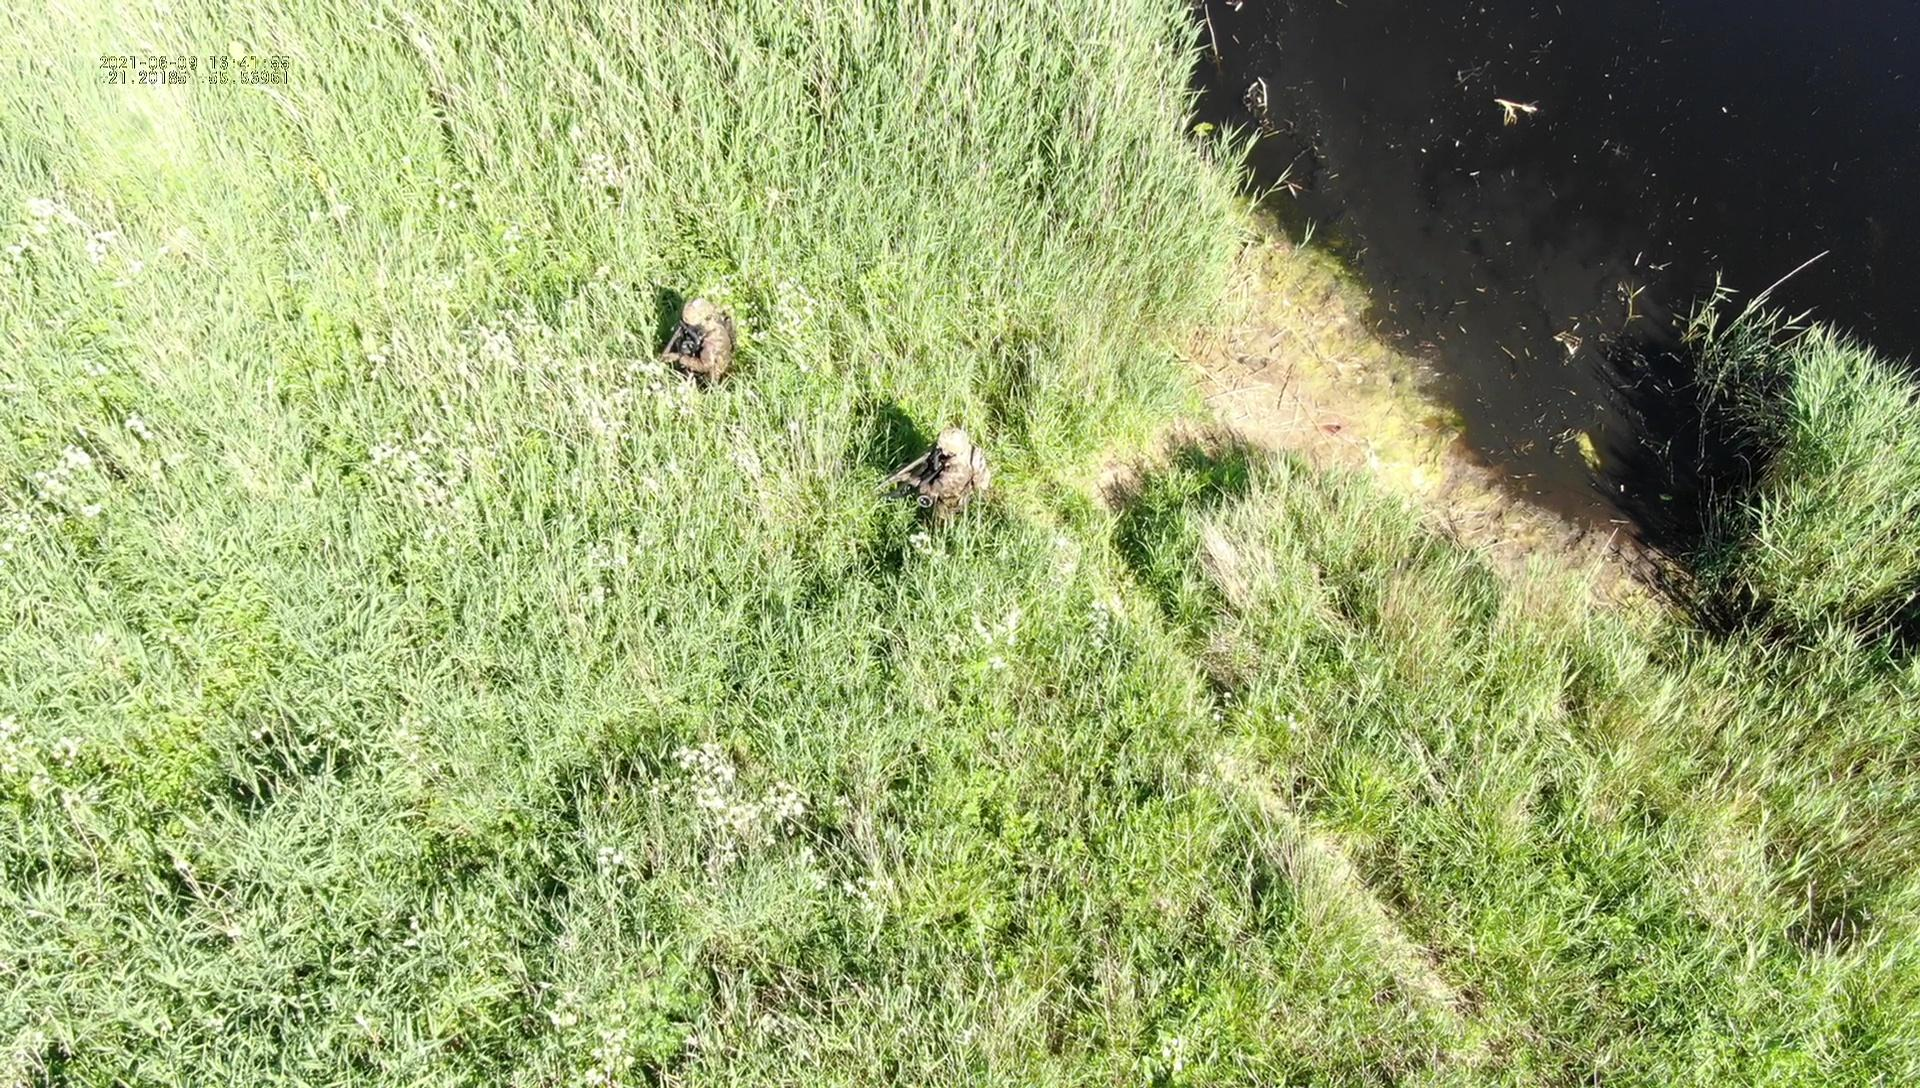Soldier: (872, 427, 993, 525), (658, 295, 741, 384)
